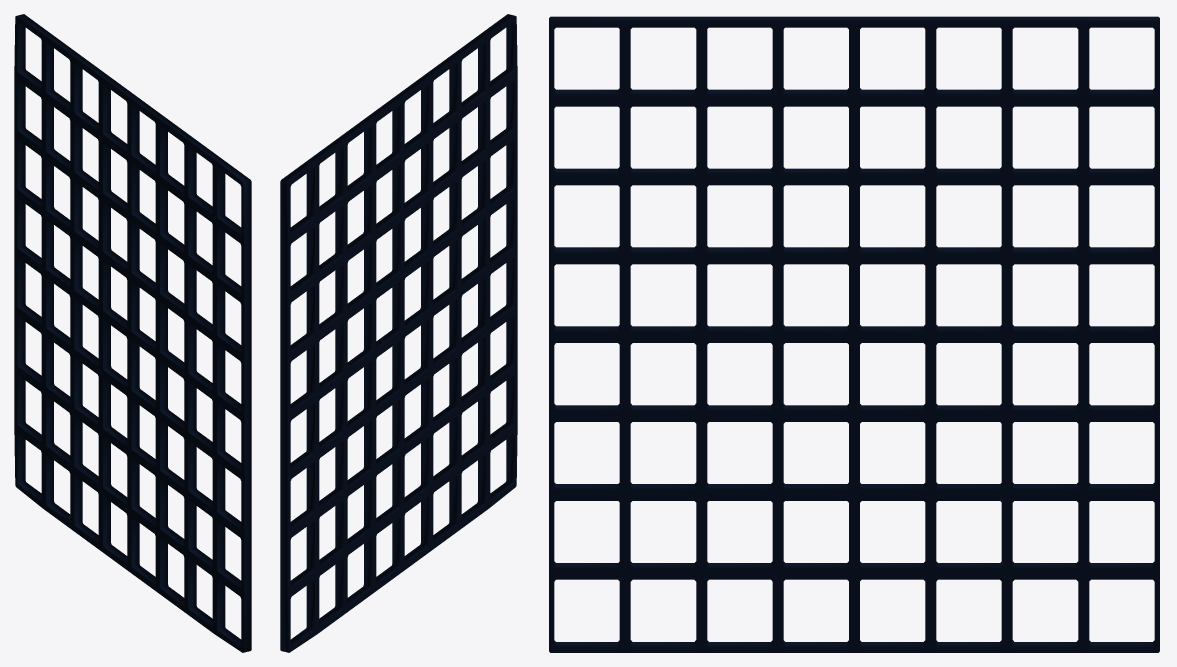
The model's file is PPSquareMeshNEW.fbx.
The picture shows the model from 3 angles, left to right: view 1: azimuth 30°, elevation 25°; view 2: azimuth 150°, elevation 25°; view 3: azimuth 270°, elevation 25°; orthographic projection. The views are drawn at different scales.
Visible parts, largest first — view 1: Cube; view 2: Cube; view 3: Cube.
Boxes of the visible parts, <box> form: Cube: <box>14,14,251,652</box>; Cube: <box>280,14,517,652</box>; Cube: <box>549,16,1159,652</box>.
Bounding box in the file's own units: 18.9 × 1032 × 906.
